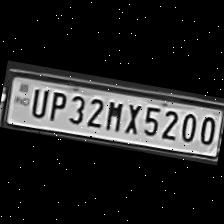0: (175, 106, 199, 142), (195, 110, 218, 144)
2: (82, 93, 106, 129), (156, 104, 180, 140)
3: (63, 88, 88, 125)
5: (138, 100, 162, 136)
M: (100, 94, 126, 132)
P: (43, 86, 68, 122)
U: (26, 82, 50, 118)
X: (119, 98, 144, 135)
